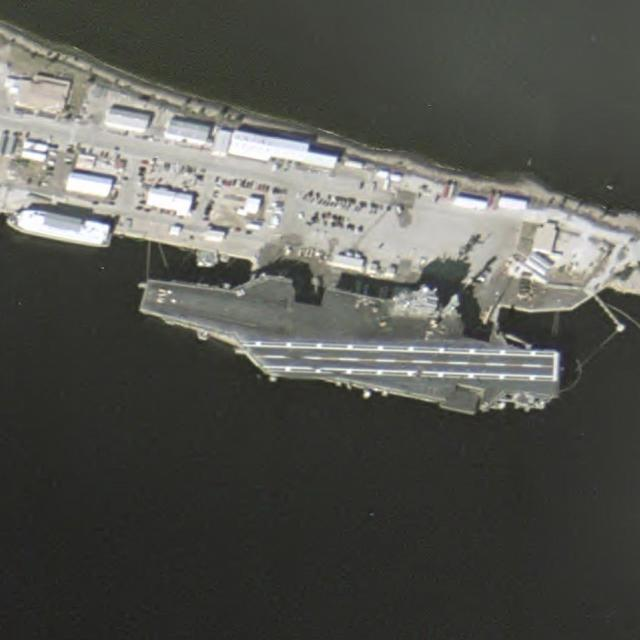Aircraft Carrier: (131, 250, 572, 434)
